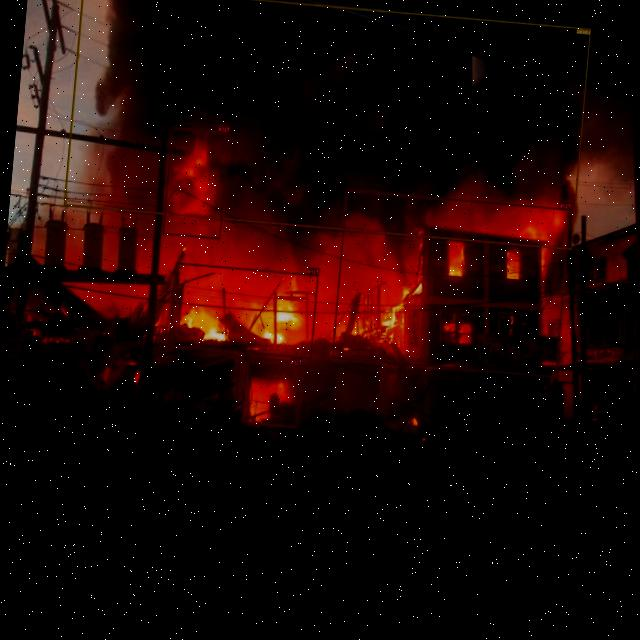fire: (332, 188, 570, 378), (168, 262, 318, 358), (162, 126, 230, 239), (242, 360, 302, 428)
smoke: (64, 0, 591, 249)
